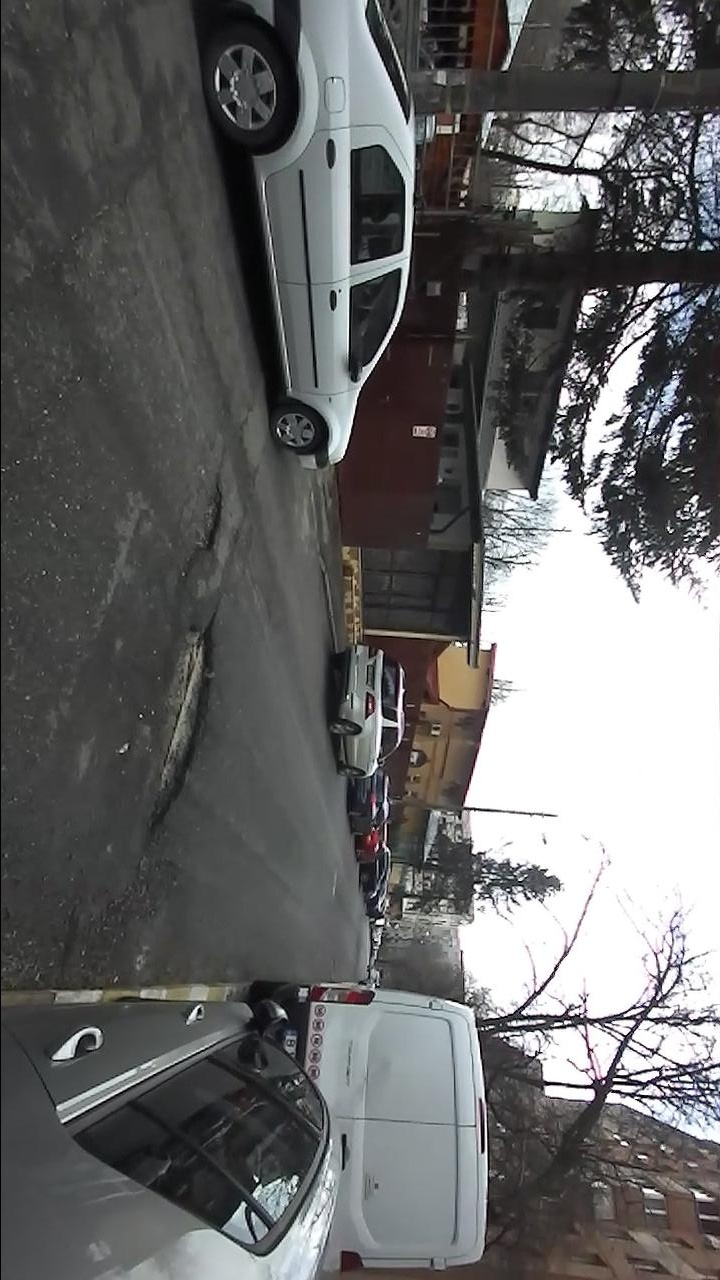pothole: (141, 606, 220, 847), (177, 466, 227, 575)
